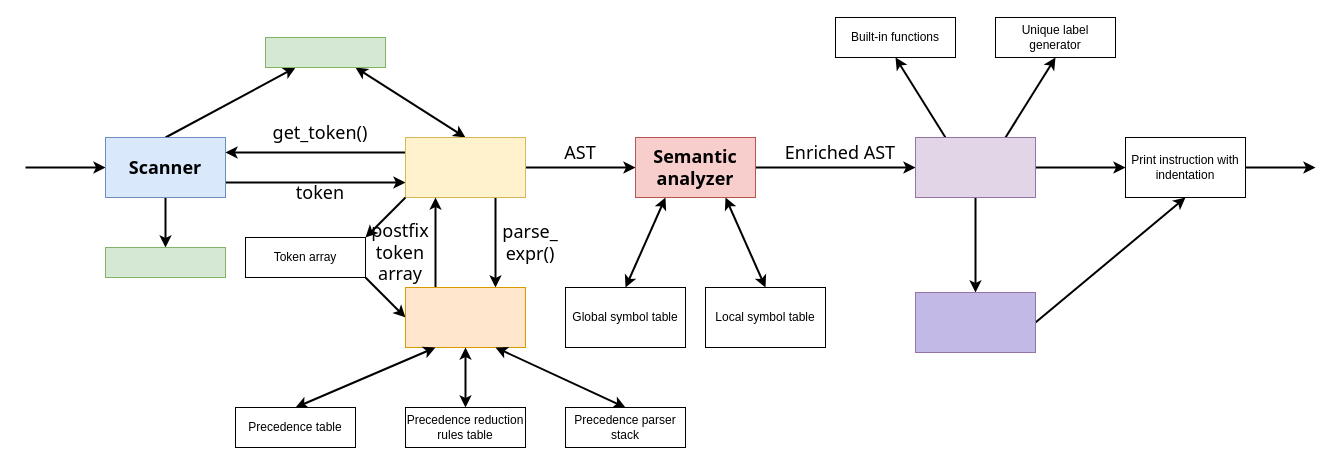
The diagram is 1341 pixels wide and 465 high, and some of its shapes have lost their labels. The centre of each missing label's shape, as x and y in pixels:
"Dynamic string" belongs at point (165, 262).
"Expression generator" belongs at point (975, 322).
"Generator" belongs at point (975, 167).
"Global error variable" belongs at point (325, 52).
"Parser" belongs at point (465, 167).
"Precedence parser" belongs at point (465, 317).
